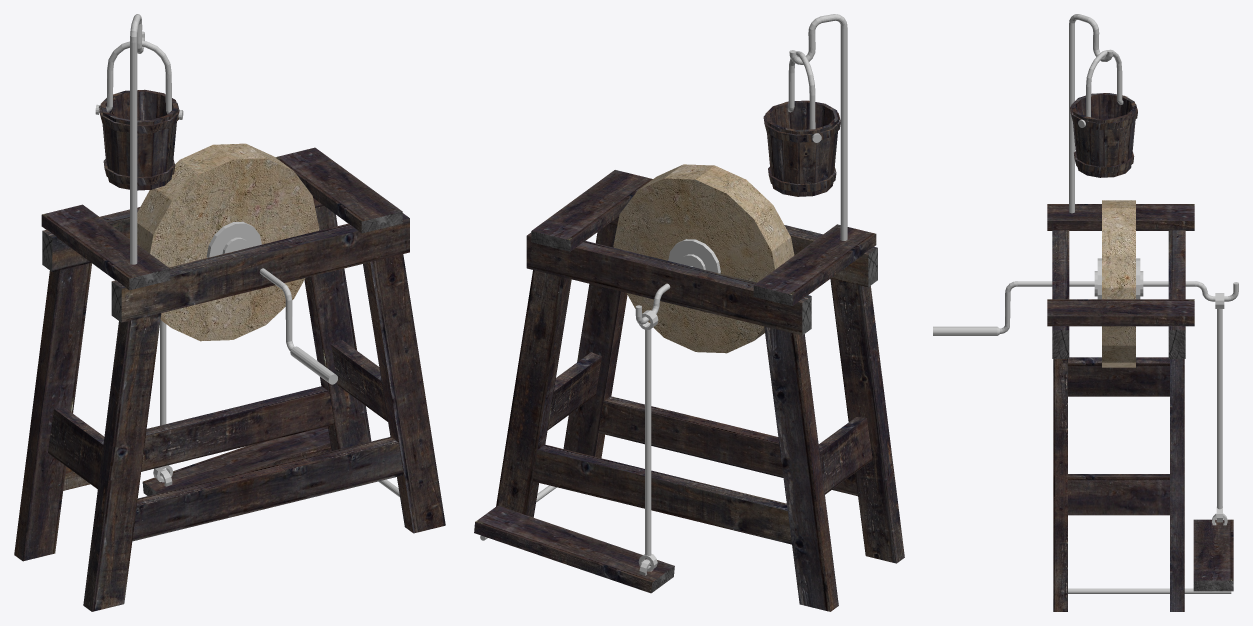
The model's file is Grindstone.fbx.
3 renders of one model, left to right at view 1: azimuth 30°, elevation 25°; view 2: azimuth 150°, elevation 25°; view 3: azimuth 270°, elevation 25°, orthographic. The views are drawn at different scales.
Visible parts, largest first — view 1: Grindstone; view 2: Grindstone; view 3: Grindstone.
Boxes of the visible parts, bbox=[...] form: Grindstone: bbox=[14, 14, 445, 611]; Grindstone: bbox=[474, 14, 904, 611]; Grindstone: bbox=[933, 14, 1238, 611].
Size of the model in its own units: 0.9428 by 1.44 by 0.838.
